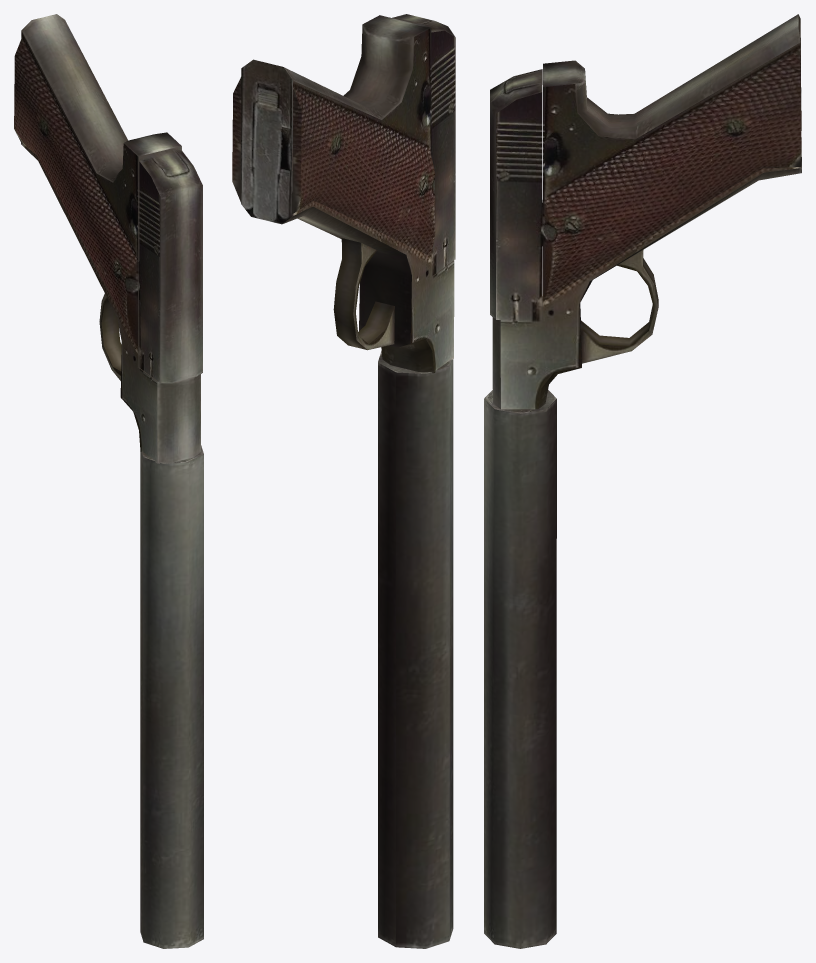
File: weapon_temp_histandardhd.glb
The picture shows the model from 3 angles, left to right: view 1: azimuth 30°, elevation 25°; view 2: azimuth 150°, elevation 25°; view 3: azimuth 270°, elevation 25°; orthographic projection. The views are drawn at different scales.
Bounding box in the file's own units: 1.33 × 17.72 × 5.6.
1 material, 1 textured.
